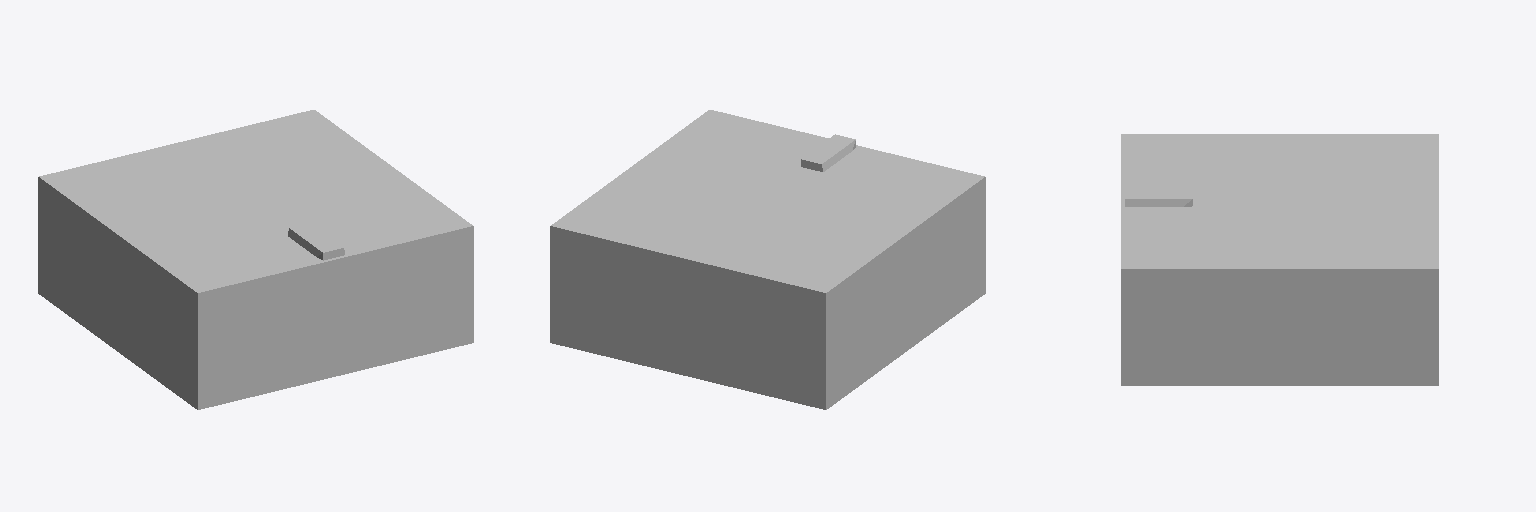
The model's file is workshop.obj.
3 views of the same model, side by side, from view 1: azimuth 30°, elevation 25°; view 2: azimuth 150°, elevation 25°; view 3: azimuth 270°, elevation 25° (orthographic).
Visible parts, largest first — view 1: Smith, Furnace; view 2: Smith, Furnace; view 3: Smith, Furnace.
Part boxes in pixels (x1,y1,x2,y2): Smith: (38, 110, 473, 409); Furnace: (288, 223, 344, 260); Smith: (550, 110, 985, 409); Furnace: (801, 134, 855, 171); Smith: (1121, 134, 1438, 385); Furnace: (1125, 188, 1192, 206).
Bounding box in the file's own units: 21.96 × 9.5 × 21.96.